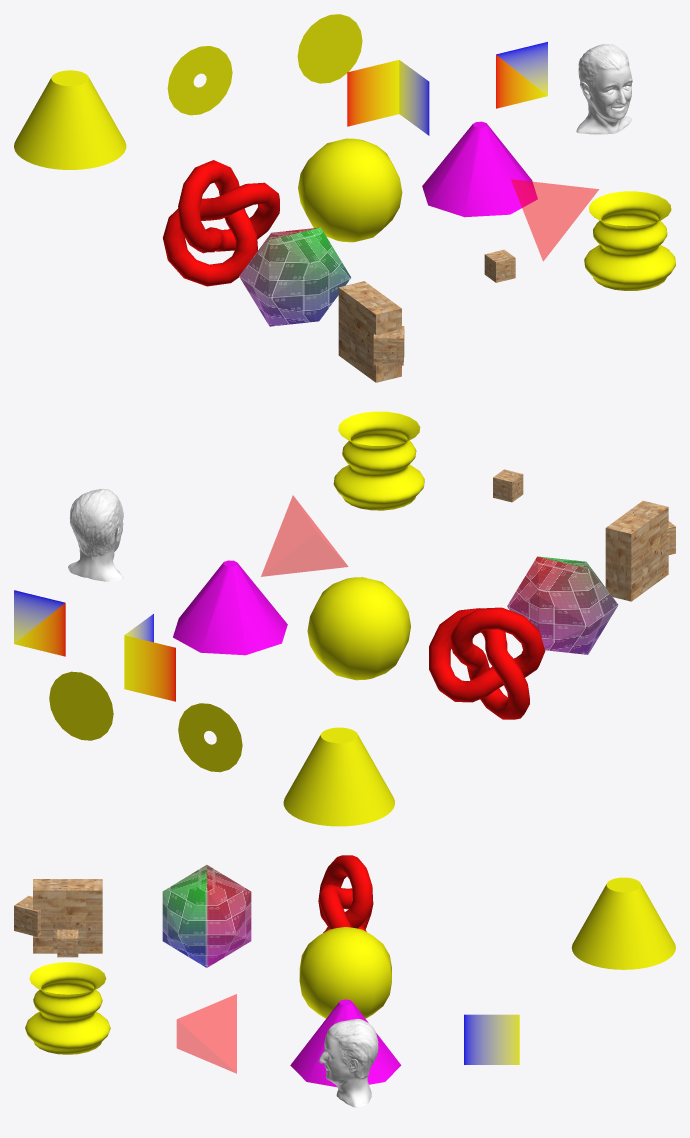
The model's file is exported-example-scene.gltf.
3 renders of one model, top to bottom at view 1: azimuth 30°, elevation 25°; view 2: azimuth 150°, elevation 25°; view 3: azimuth 270°, elevation 25°, orthographic. The views are drawn at different scales.
Visible parts, largest first — view 1: Cylinder (×2), Sphere, Icosahedron, object 13, object 14, Custom buffered, Cube, Mesh_Mesh_head_geo.001_lambert2SG.001, Tetrahedron, object 11, object 12, Custom buffered truncated (+2 smaller); view 2: Cylinder (×2), Sphere, object 13, object 14, Icosahedron, Cube, Mesh_Mesh_head_geo.001_lambert2SG.001, Tetrahedron, object 11, object 12, Custom buffered, Custom buffered truncated (+1 smaller); view 3: Icosahedron, Sphere, object 13, object 14, Cylinder (×2), Cube, Mesh_Mesh_head_geo.001_lambert2SG.001, Tetrahedron, Custom buffered, SubCube, Cube in group.
Part boxes in pixels (x1,y1,x2,y2): Cylinder (×2): (163, 121, 537, 286); Sphere: (298, 138, 402, 242); Icosahedron: (239, 227, 351, 326); object 13: (14, 70, 126, 169); object 14: (584, 191, 675, 290); Custom buffered: (347, 60, 429, 135); Cube: (338, 281, 401, 382); Mesh_Mesh_head_geo.001_lambert2SG.001: (576, 44, 632, 134); Tetrahedron: (511, 179, 598, 261); object 11: (297, 14, 362, 83); object 12: (167, 46, 232, 115); Custom buffered truncated: (496, 42, 547, 108); Cylinder (×2): (173, 560, 545, 719); Sphere: (307, 577, 410, 680); object 13: (283, 727, 394, 826); object 14: (333, 411, 424, 510); Icosahedron: (507, 556, 618, 654); Cube: (605, 500, 668, 601); Mesh_Mesh_head_geo.001_lambert2SG.001: (68, 488, 123, 581); Tetrahedron: (261, 495, 348, 576); object 11: (49, 671, 113, 740); object 12: (178, 703, 242, 772); Custom buffered: (124, 614, 175, 701); Custom buffered truncated: (14, 590, 65, 656); Icosahedron: (162, 865, 251, 967); Sphere: (299, 927, 391, 1018); object 13: (571, 877, 675, 969); object 14: (25, 962, 110, 1054); Cylinder (×2): (290, 855, 401, 1087); Cube: (33, 879, 102, 953); Mesh_Mesh_head_geo.001_lambert2SG.001: (318, 1018, 378, 1107); Tetrahedron: (176, 994, 236, 1073); Custom buffered: (464, 1014, 519, 1064); SubCube: (14, 895, 40, 936); Cube in group: (57, 929, 78, 957).
Size of the model in its own units: 717 by 198 by 953.
Materials: 10 (2 with a texture image).
